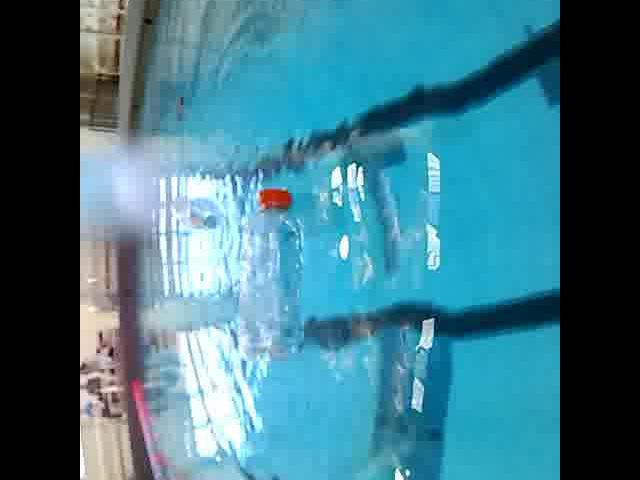Bottle: (234, 183, 310, 365)
